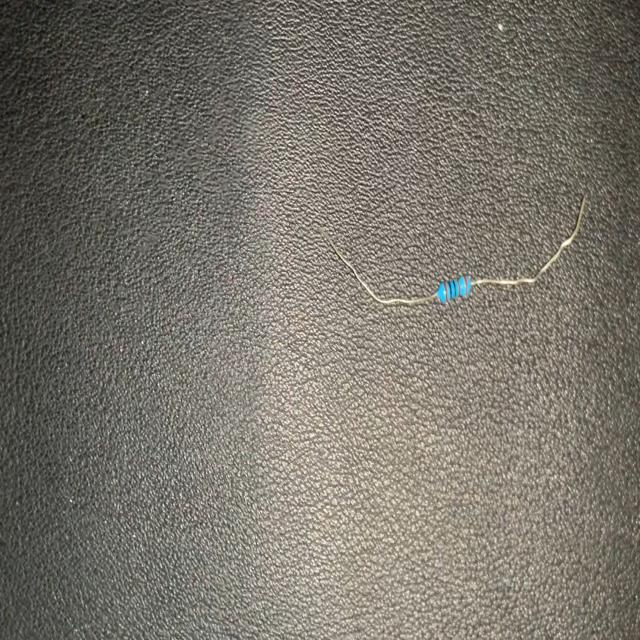resistor: (323, 196, 585, 304)
